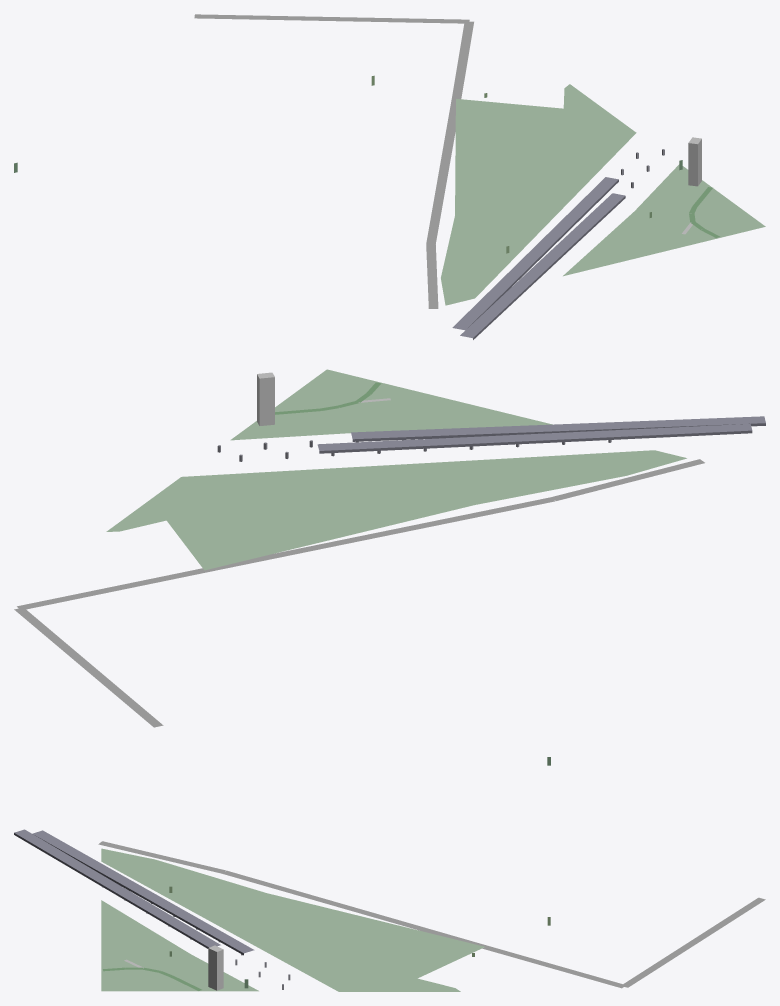
3 renders of one model, top to bottom at view 1: azimuth 30°, elevation 25°; view 2: azimuth 150°, elevation 25°; view 3: azimuth 270°, elevation 25°, orthographic. The views are drawn at different scales.
Bounding box in the file's own units: 427 × 35.47 × 596.
